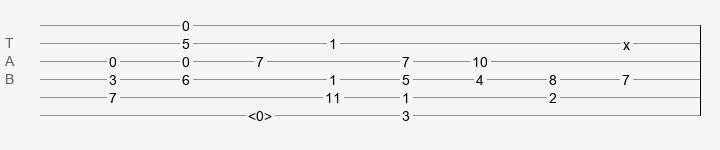0: (109, 54, 117, 64), (182, 54, 190, 64), (182, 18, 190, 28)
1: (329, 72, 337, 82), (329, 36, 337, 46), (402, 90, 410, 100)
10: (472, 54, 488, 64)
11: (325, 90, 341, 100)
2: (549, 90, 557, 100)
3: (109, 72, 117, 82), (402, 108, 410, 118)
4: (476, 72, 484, 82)
5: (182, 36, 190, 46), (402, 72, 410, 82)
6: (182, 72, 190, 82)
7: (109, 90, 117, 100), (256, 54, 264, 64), (402, 54, 410, 64), (622, 72, 630, 82)
8: (549, 72, 557, 82)
harmonic: (248, 108, 272, 118)
x: (623, 37, 630, 45)
